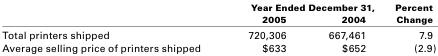table: (1, 1, 435, 53)
table column: (1, 1, 223, 53), (223, 1, 306, 53), (306, 1, 384, 53), (384, 1, 435, 53)
table column header: (1, 1, 435, 26)
table row: (1, 12, 435, 26), (1, 26, 435, 40), (1, 40, 435, 53), (1, 1, 435, 12)
table spanning cell: (223, 1, 384, 12), (384, 1, 435, 26)
